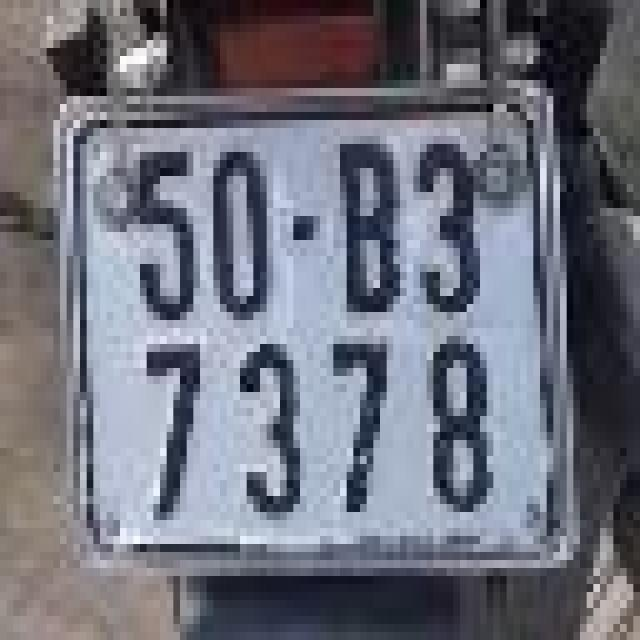0: (207, 136, 273, 328)
3: (226, 328, 306, 528), (410, 132, 490, 324)
5: (113, 128, 207, 328)
7: (134, 320, 214, 528), (327, 336, 400, 528)
8: (420, 320, 493, 512)
B: (330, 124, 410, 324)
